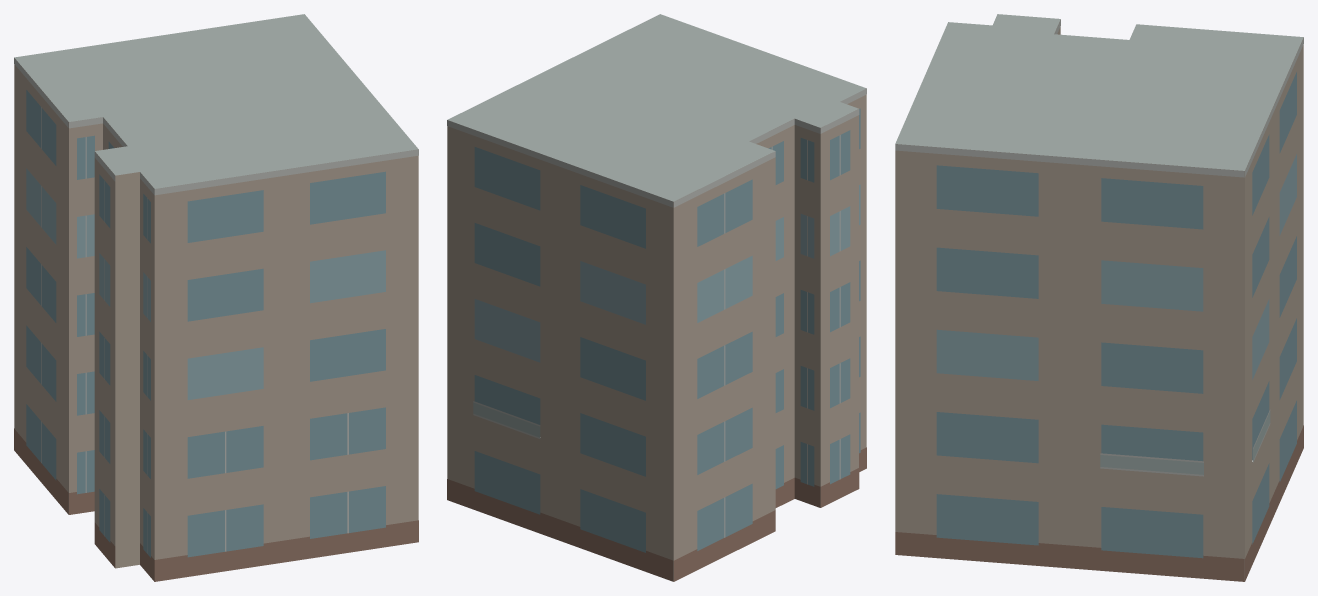
Rendered from survey-upis-32536807.glb.
3 renders of one model, left to right at view 1: azimuth 30°, elevation 25°; view 2: azimuth 150°, elevation 25°; view 3: azimuth 270°, elevation 25°, orthographic. The views are drawn at different scales.
Parts seen in each view (by area): view 1: survey-upis-32536807.tmp; view 2: survey-upis-32536807.tmp; view 3: survey-upis-32536807.tmp.
Part boxes in pixels (box(x1,y1,x2,y2)): survey-upis-32536807.tmp: box(14, 14, 418, 581); survey-upis-32536807.tmp: box(447, 14, 866, 581); survey-upis-32536807.tmp: box(895, 14, 1303, 581).
Size of the model in its own units: 12.42 by 15.15 by 13.66.
